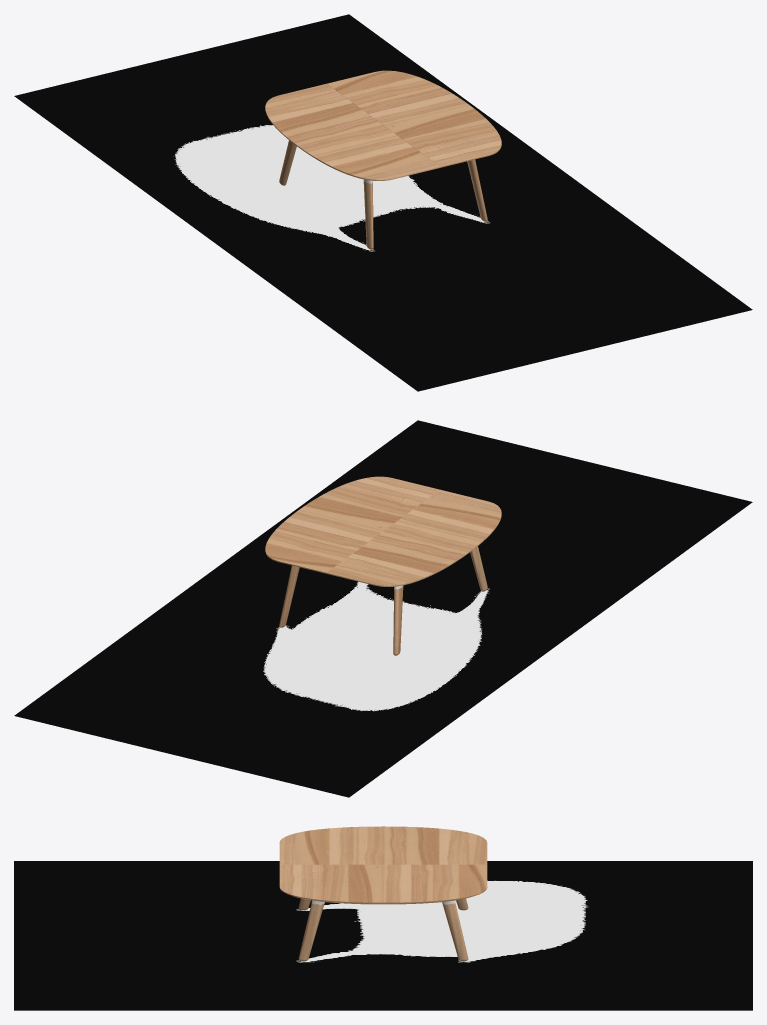
File: table1.glb
The picture shows the model from 3 angles, top to bottom: view 1: azimuth 30°, elevation 25°; view 2: azimuth 150°, elevation 25°; view 3: azimuth 270°, elevation 25°; orthographic projection. The views are drawn at different scales.
Parts seen in each view (by area): view 1: Plane001, Edelweiss_Extending_Dining_Table_Ash_and_White; view 2: Plane001, Edelweiss_Extending_Dining_Table_Ash_and_White; view 3: Plane001, Edelweiss_Extending_Dining_Table_Ash_and_White.
Part boxes in pixels (x1,y1,x2,y2): Plane001: [14, 14, 752, 391]; Edelweiss_Extending_Dining_Table_Ash_and_White: [265, 70, 501, 249]; Plane001: [14, 420, 752, 797]; Edelweiss_Extending_Dining_Table_Ash_and_White: [265, 476, 501, 655]; Plane001: [14, 861, 752, 1010]; Edelweiss_Extending_Dining_Table_Ash_and_White: [279, 826, 487, 961].
Bounding box in the file's own units: 3.34 × 0.7413 × 6.97.
3 materials, 2 textured.
